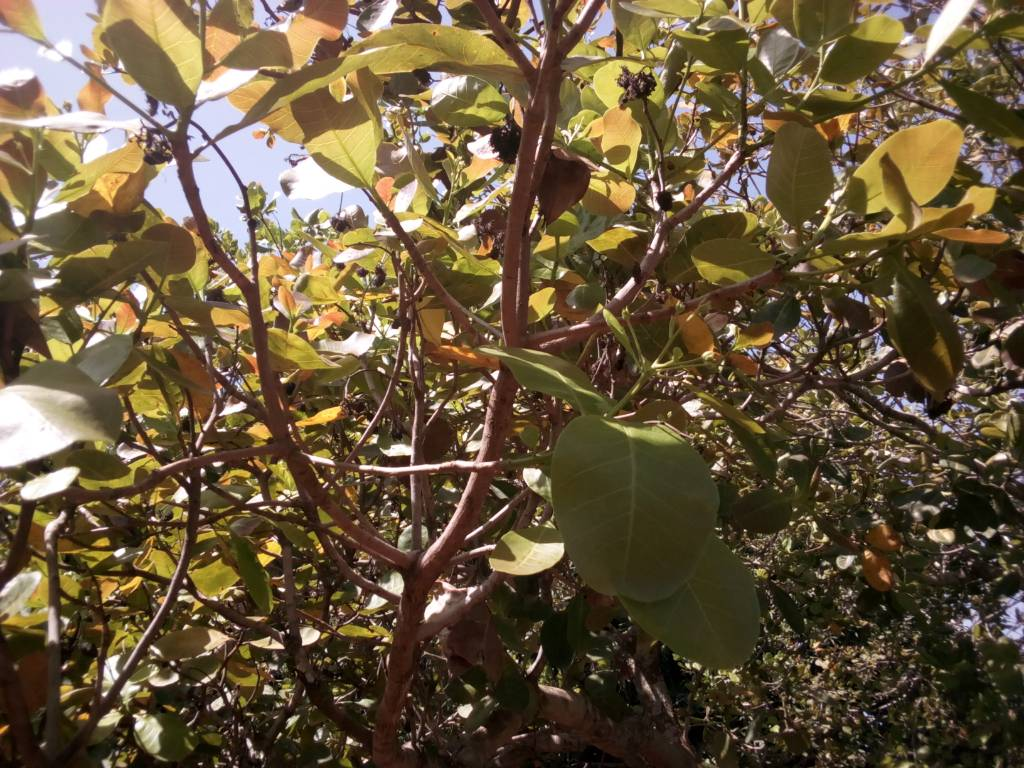Dessèchement des bourgeons: (127, 114, 185, 169), (490, 122, 534, 185), (617, 66, 657, 111), (658, 191, 685, 218)
